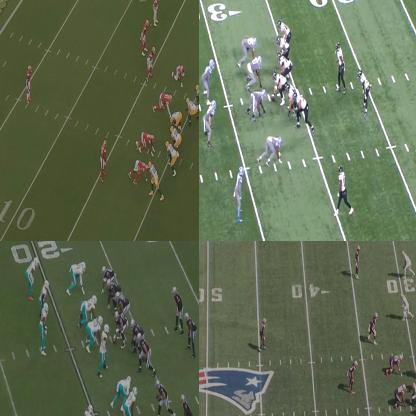CENTER: (270, 69, 289, 104), (112, 311, 125, 344), (169, 111, 183, 128), (410, 382, 415, 407)
DB: (236, 167, 246, 222), (125, 386, 137, 415), (28, 258, 38, 292), (27, 63, 33, 103), (154, 0, 162, 26), (141, 21, 147, 53), (260, 318, 266, 350), (82, 404, 93, 415)
LB: (38, 304, 48, 357), (206, 103, 217, 148), (204, 58, 214, 101), (368, 314, 379, 344), (40, 281, 50, 311), (350, 364, 359, 394), (146, 48, 154, 80), (355, 245, 362, 279), (100, 141, 106, 179)
QB: (172, 286, 184, 328), (336, 43, 344, 94)
SKILL: (336, 166, 350, 214), (155, 378, 170, 415), (358, 70, 370, 116), (184, 311, 195, 360), (150, 161, 161, 197), (179, 393, 197, 415), (402, 252, 414, 280), (101, 264, 115, 286), (401, 294, 409, 320)
